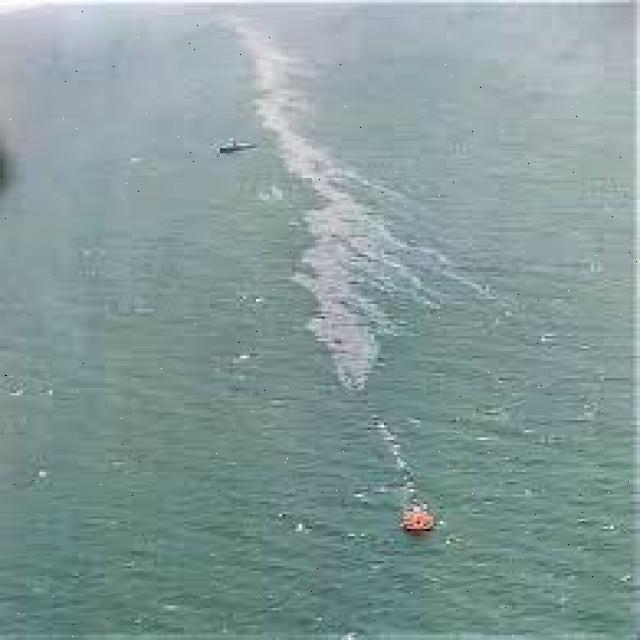sheen: (264, 49, 381, 392)
